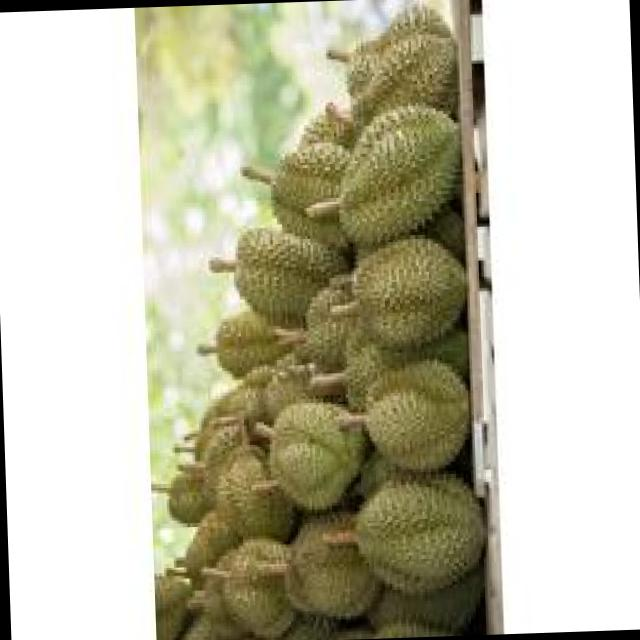fruit: (275, 90, 473, 260), (340, 462, 493, 606), (255, 382, 392, 526), (354, 348, 483, 478)
